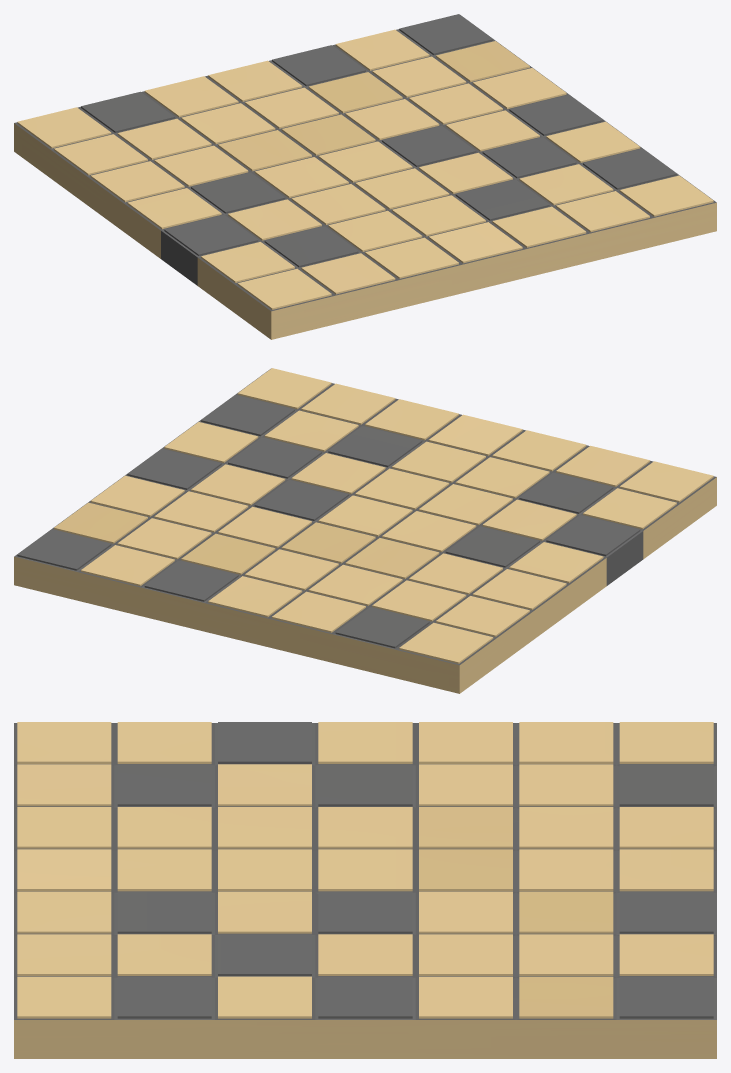
File: floor_tile_4.glb
The picture shows the model from 3 angles, top to bottom: view 1: azimuth 30°, elevation 25°; view 2: azimuth 150°, elevation 25°; view 3: azimuth 270°, elevation 25°; orthographic projection. The views are drawn at different scales.
Parts seen in each view (by area): view 1: floor_tile_4; view 2: floor_tile_4; view 3: floor_tile_4.
Boxes of the visible parts, x1,y1,x2,y2 form: floor_tile_4: [14, 14, 716, 339]; floor_tile_4: [14, 368, 716, 693]; floor_tile_4: [14, 722, 716, 1058].
Size of the model in its own units: 1.82 by 0.1179 by 1.82.
Materials: 1 (1 with a texture image).
